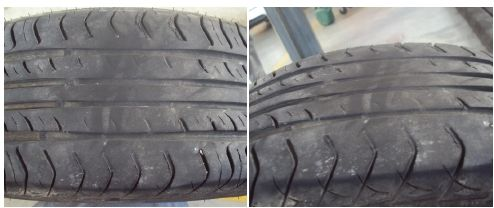bad_condition: (7, 9, 250, 206), (258, 32, 494, 206)
